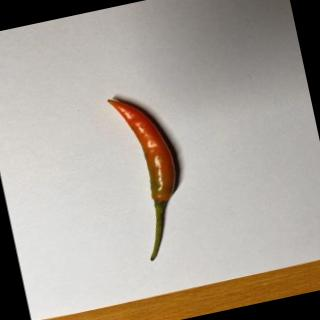Cabai Merah: (107, 88, 195, 265)
